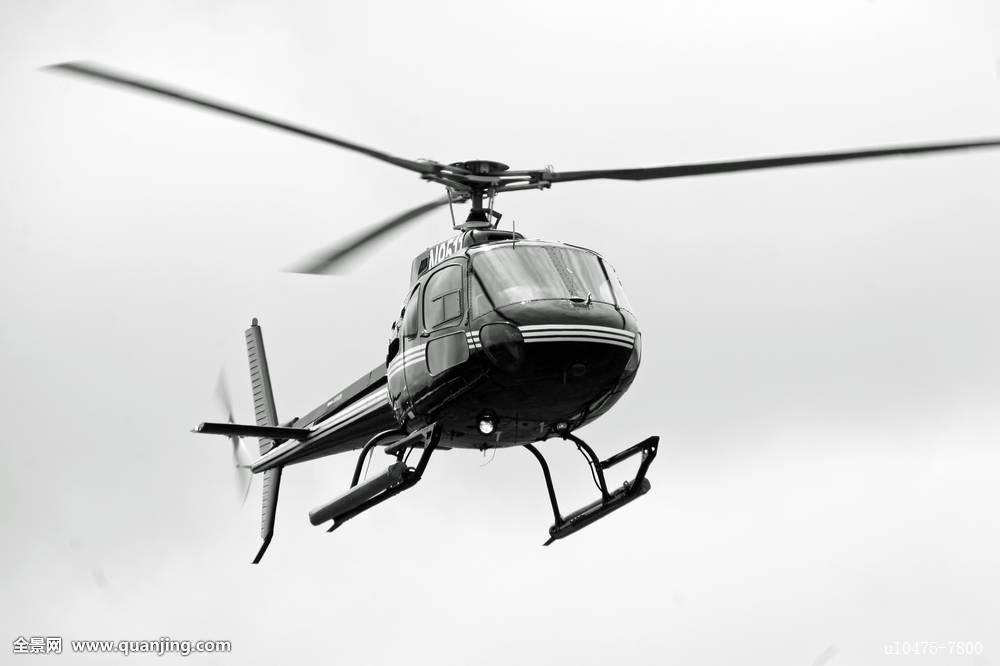airplane: (147, 124, 1000, 568)
